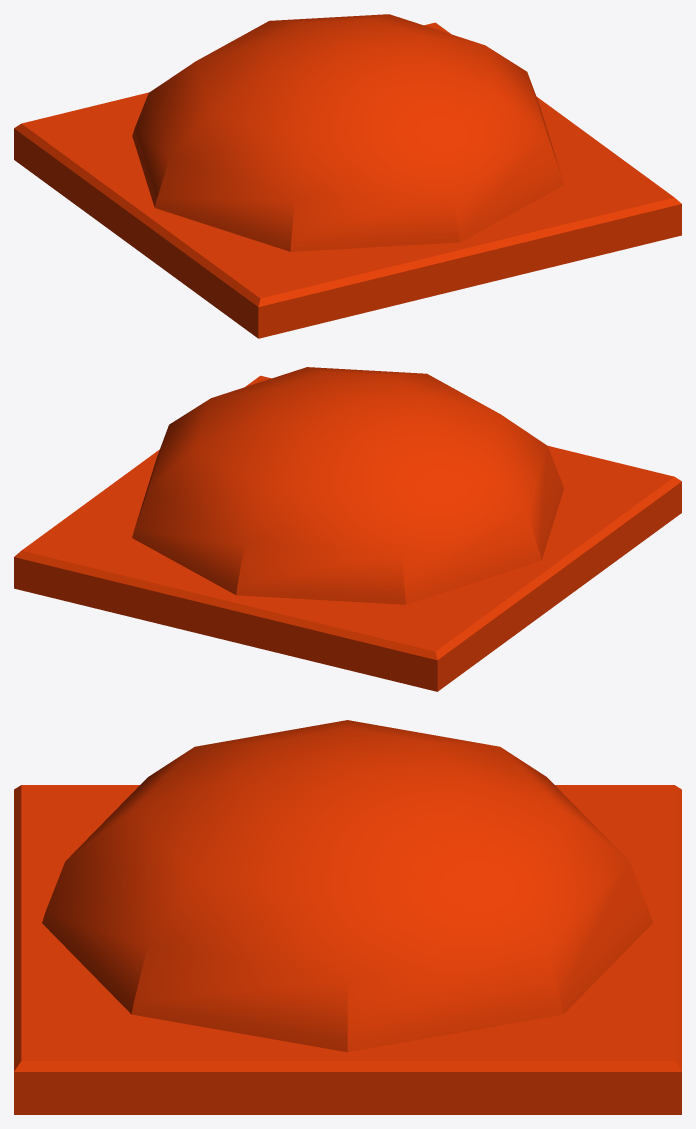
File: Bulb_01.fbx
The picture shows the model from 3 angles, top to bottom: view 1: azimuth 30°, elevation 25°; view 2: azimuth 150°, elevation 25°; view 3: azimuth 270°, elevation 25°; orthographic projection. The views are drawn at different scales.
Visible parts, largest first — view 1: Bulb_01; view 2: Bulb_01; view 3: Bulb_01.
Part boxes in pixels (x1,y1,x2,y2): Bulb_01: (14,14,681,338); Bulb_01: (14,367,681,691); Bulb_01: (14,720,681,1114).
Size of the model in its own units: 5.64 by 1.98 by 5.64.
